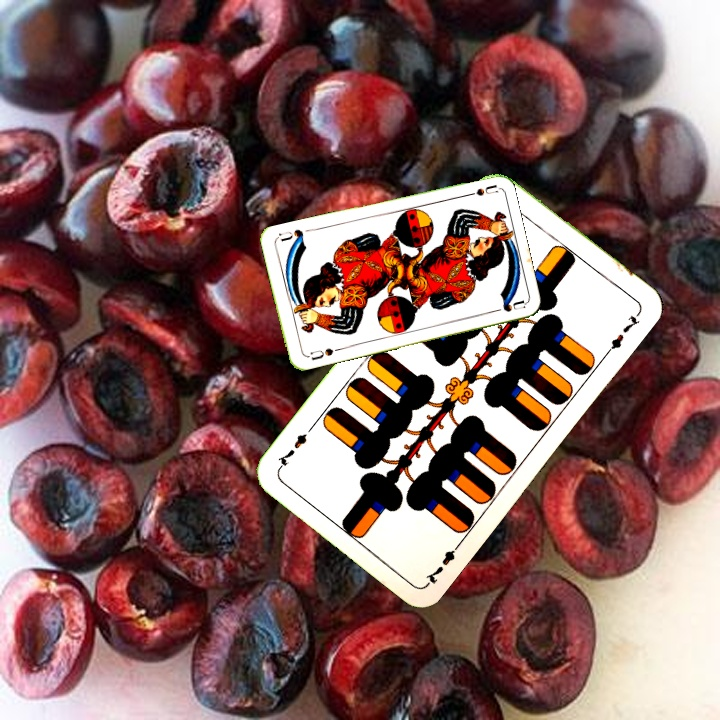E7: (421, 537, 465, 587)
SU: (458, 181, 499, 200), (302, 344, 342, 363)
